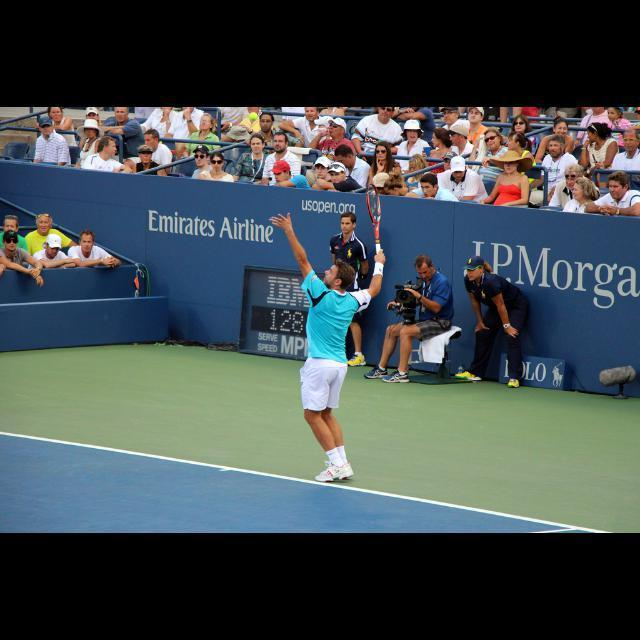tennis-ball: (249, 111, 260, 122)
